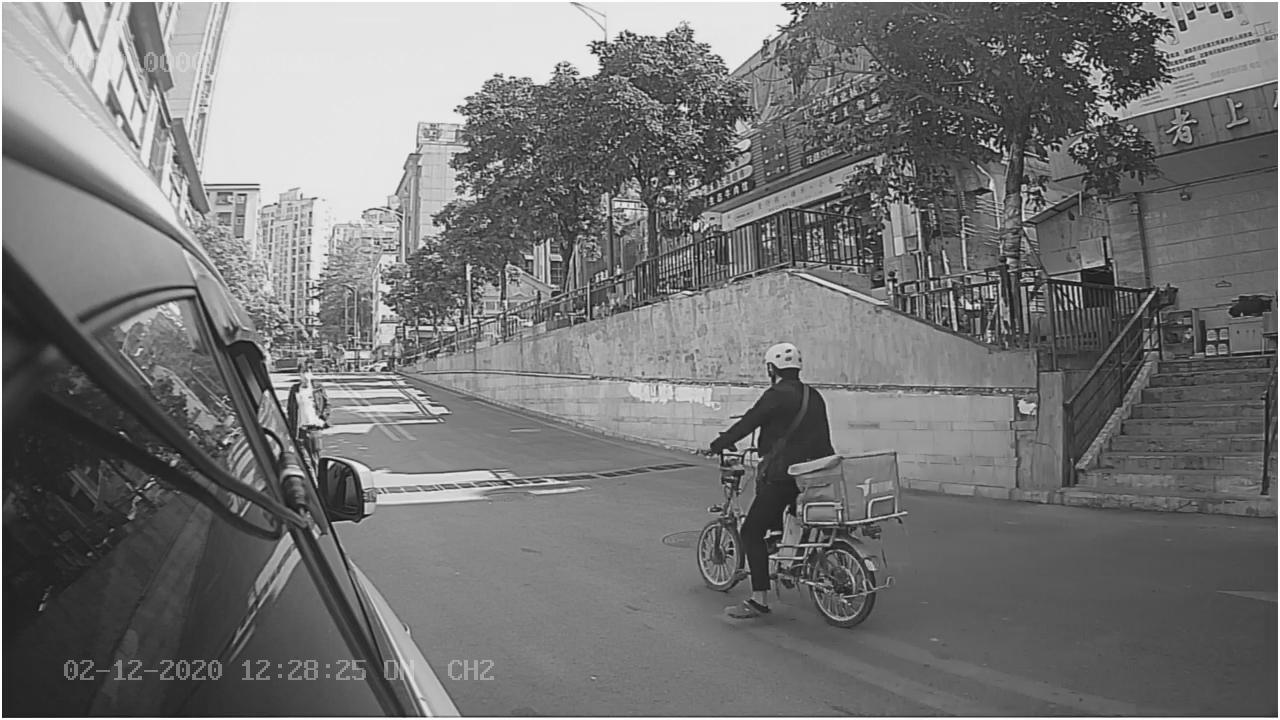person: (693, 320, 832, 457)
